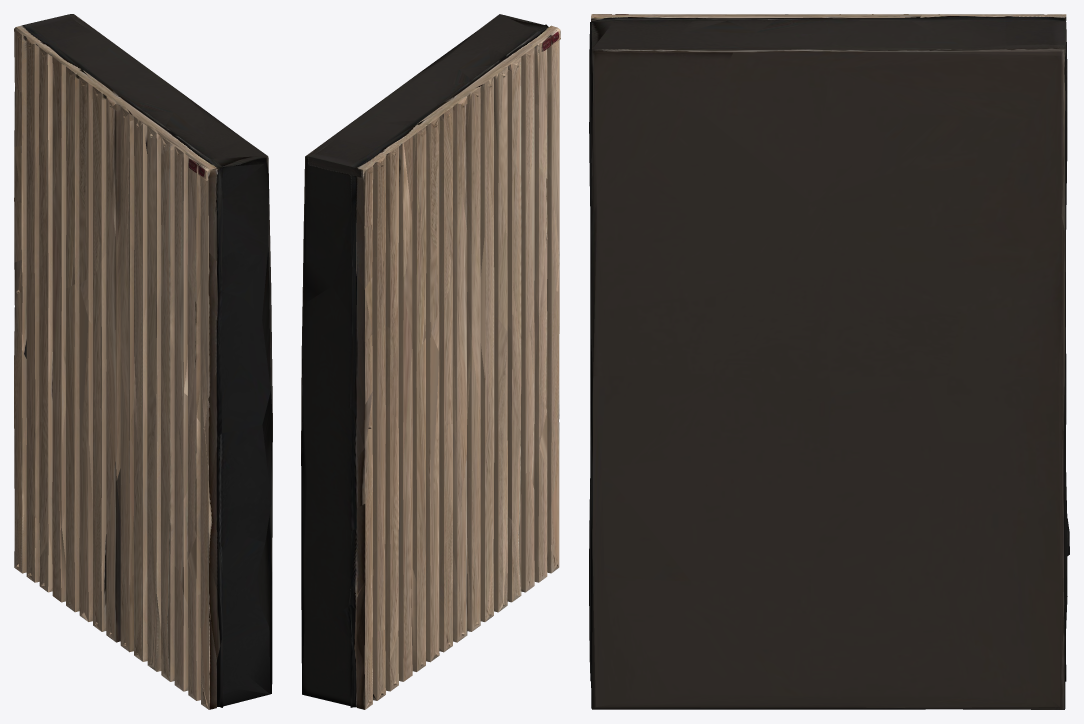
The model's file is panel.fbx.
The picture shows the model from 3 angles, left to right: view 1: azimuth 30°, elevation 25°; view 2: azimuth 150°, elevation 25°; view 3: azimuth 270°, elevation 25°; orthographic projection. The views are drawn at different scales.
Parts seen in each view (by area): view 1: tripo_node_48bf3400; view 2: tripo_node_48bf3400; view 3: tripo_node_48bf3400.
Part boxes in pixels (x1,y1,x2,y2): tripo_node_48bf3400: (14,14,272,709); tripo_node_48bf3400: (301,14,560,709); tripo_node_48bf3400: (589,14,1069,709).
Size of the model in its own units: 12.72 by 97.79 by 64.3.
